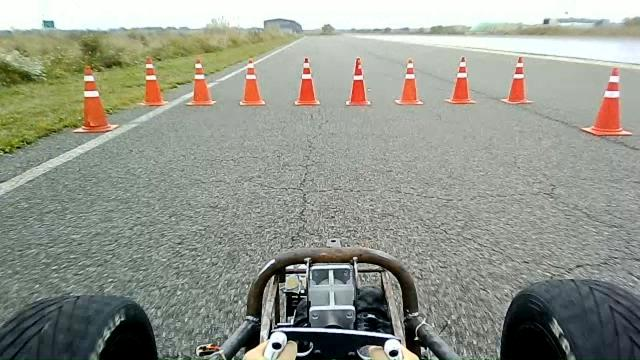red cone: (581, 66, 632, 136), (74, 63, 120, 132), (501, 55, 534, 104), (444, 56, 476, 104), (396, 57, 426, 106), (188, 57, 218, 106), (139, 56, 167, 106), (297, 56, 324, 106), (239, 57, 266, 106), (345, 56, 371, 106)
